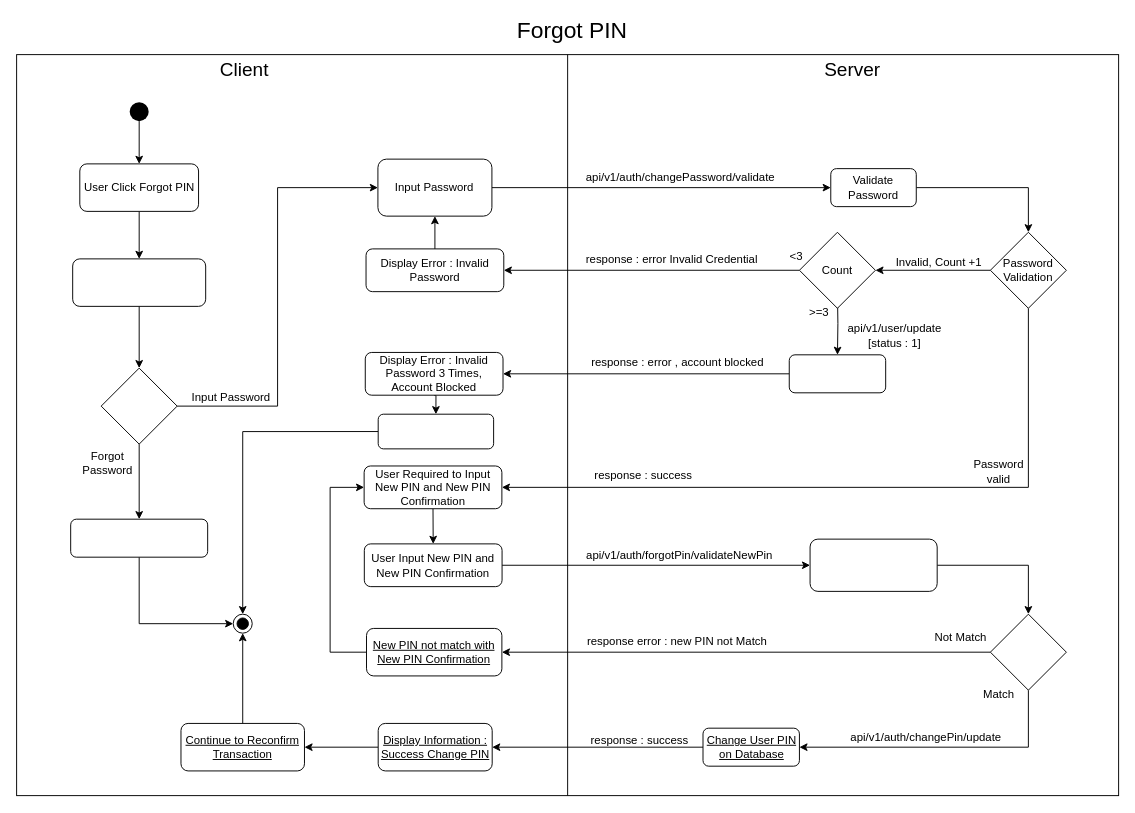
The diagram is 1135 pixels wide and 813 high, and some of its shapes have lost their labels. Each missing label, with the centre of its shape:
"Account Blocked" goes at pixel 837 373.
"Check New PIN and New PIN Confirmation" goes at pixel 873 564.
"Compare" goes at pixel 1027 651.
"Continue to Forgot Password Flow" goes at pixel 139 537.
"Force Logout" goes at pixel 435 431.
"User Required to input Password" goes at pixel 139 282.
